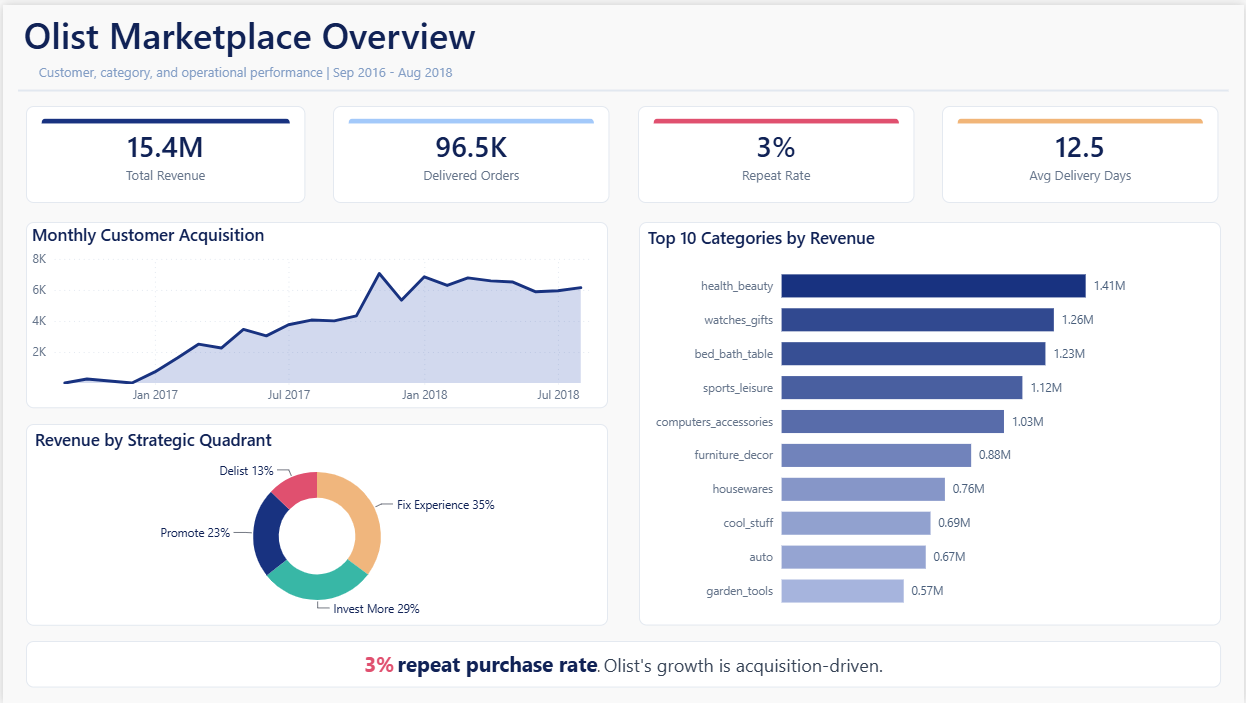

Layout of this report page (visuals, bound fields, positions):
{"tool":"powerbi","page":{"name":"Executive Overview","canvas":[1280,720],"ordinal":0},"visuals":[{"type":"textbox","box":[16,0,488,64],"z":0},{"type":"textbox","box":[31.9,56,448,32],"z":1000},{"type":"shape","box":[15.9,72,1248,32],"z":2000},{"type":"cardVisual","fields":{"Data":["Sum(agg_marketplace_kpis.Total Revenue)"]},"box":[24,104,288,100],"z":3000},{"type":"cardVisual","fields":{"Data":["All Measures.Avg Delivery Days (Weighted)"]},"box":[967.9,104,285,100],"z":4000},{"type":"cardVisual","fields":{"Data":["Sum(agg_marketplace_kpis.Total Orders)"]},"box":[340.6,104,285,100],"z":5000},{"type":"cardVisual","fields":{"Data":["All Measures.Repeat Rate Display"]},"box":[654.3,104,285,100],"z":6000},{"type":"areaChart","title":"Monthly Customer Acquisition","fields":{"Y":["Sum(agg_cohort_sizes.New Customers)"],"Category":["agg_cohort_sizes.Cohort Month"]},"box":[24,224,600,192],"z":7000},{"type":"donutChart","title":"Revenue by Strategic Quadrant","fields":{"Category":["agg_category_performance.Quadrant"],"Y":["Sum(agg_category_performance.Total Revenue)"]},"box":[24,432,600,208],"z":8000},{"type":"barChart","title":"Top 10 Categories by Revenue","fields":{"Category":["agg_category_performance.Product Category"],"Y":["Sum(agg_category_performance.Total Revenue)"]},"box":[656,224,600,416],"z":9000},{"type":"textbox","box":[24,656,1232,48],"z":10000}]}

Visuals, with their boxes in screenshot pixels (x1, y1, x2, y2), scaled from the page's 1280x720 canvas onto the 1246x703 screenshot:
textbox: locate(16, 0, 491, 62)
textbox: locate(31, 55, 467, 86)
shape: locate(15, 70, 1230, 102)
cardVisual - Sum(agg_marketplace_kpis.Total Revenue): locate(23, 102, 304, 199)
cardVisual - All Measures.Avg Delivery Days (Weighted): locate(942, 102, 1220, 199)
cardVisual - Sum(agg_marketplace_kpis.Total Orders): locate(332, 102, 609, 199)
cardVisual - All Measures.Repeat Rate Display: locate(637, 102, 914, 199)
"Monthly Customer Acquisition" areaChart: locate(23, 219, 607, 406)
"Revenue by Strategic Quadrant" donutChart: locate(23, 422, 607, 625)
"Top 10 Categories by Revenue" barChart: locate(639, 219, 1223, 625)
textbox: locate(23, 641, 1223, 687)
